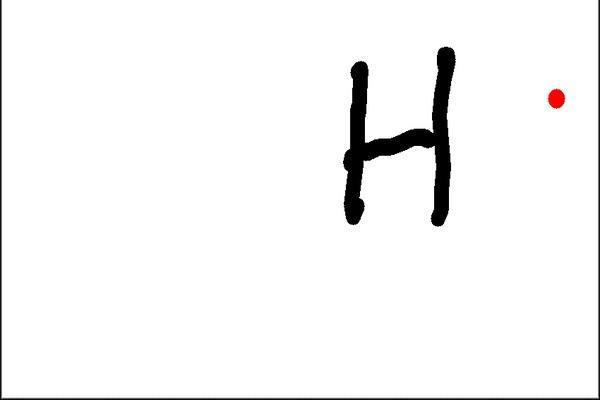H: (336, 38, 459, 230)
